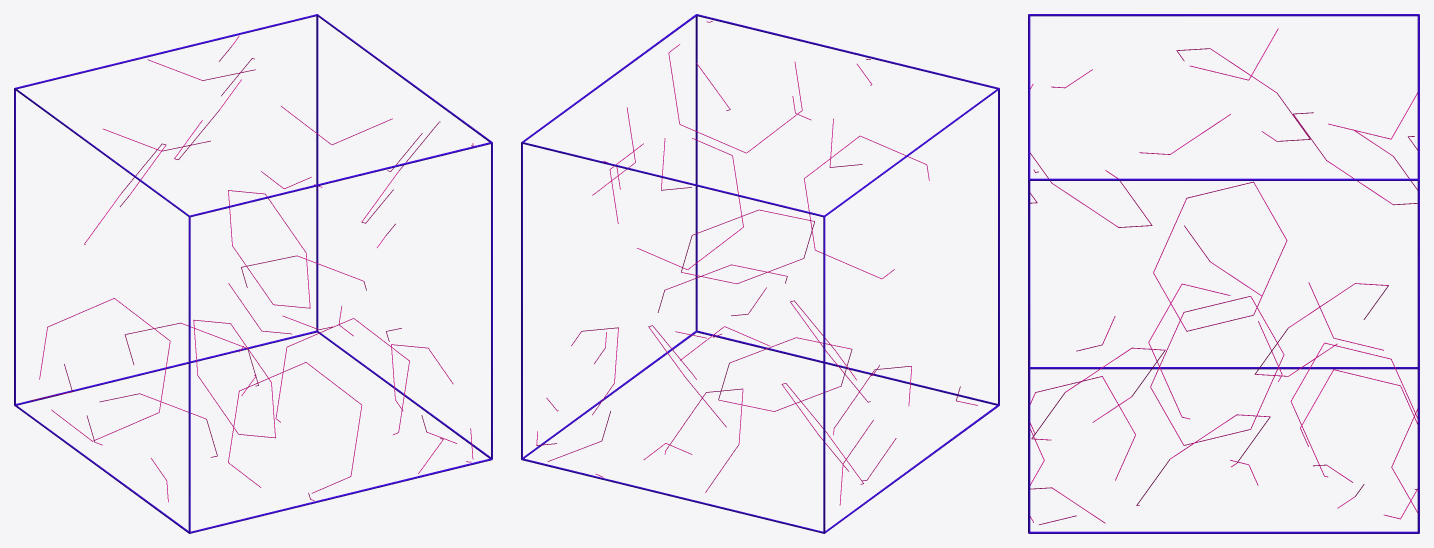
Rendered from small_ddd.glb.
3 views of the same model, side by side, from view 1: azimuth 30°, elevation 25°; view 2: azimuth 150°, elevation 25°; view 3: azimuth 270°, elevation 25° (orthographic). The views are drawn at different scales.
Parts seen in each view (by area): view 1: Shape_IndexedLineSet, Shape_IndexedLineSet.001; view 2: Shape_IndexedLineSet, Shape_IndexedLineSet.001; view 3: Shape_IndexedLineSet, Shape_IndexedLineSet.001.
Part boxes in pixels (x1,y1,x2,y2): Shape_IndexedLineSet: [14, 14, 492, 533]; Shape_IndexedLineSet.001: [30, 35, 473, 502]; Shape_IndexedLineSet: [521, 14, 999, 533]; Shape_IndexedLineSet.001: [536, 21, 977, 505]; Shape_IndexedLineSet: [1028, 14, 1419, 533]; Shape_IndexedLineSet.001: [1030, 28, 1417, 524].
Bounding box in the file's own units: 10.06 × 10.06 × 10.06.
